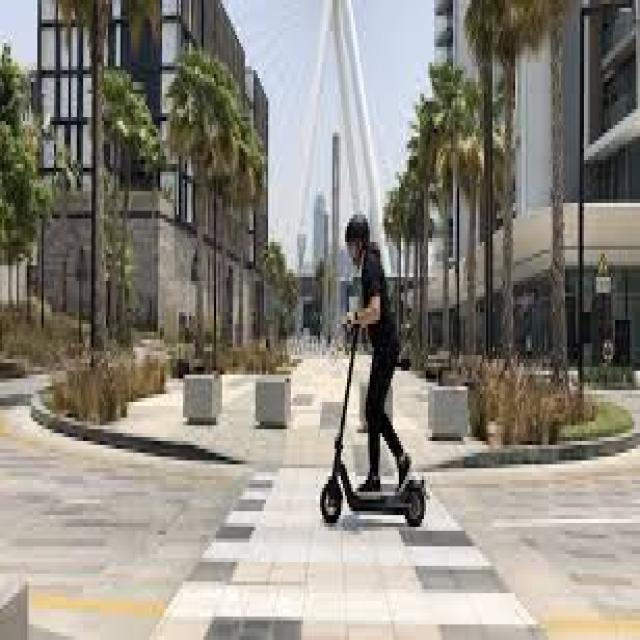helmet: (316, 200, 436, 539)
